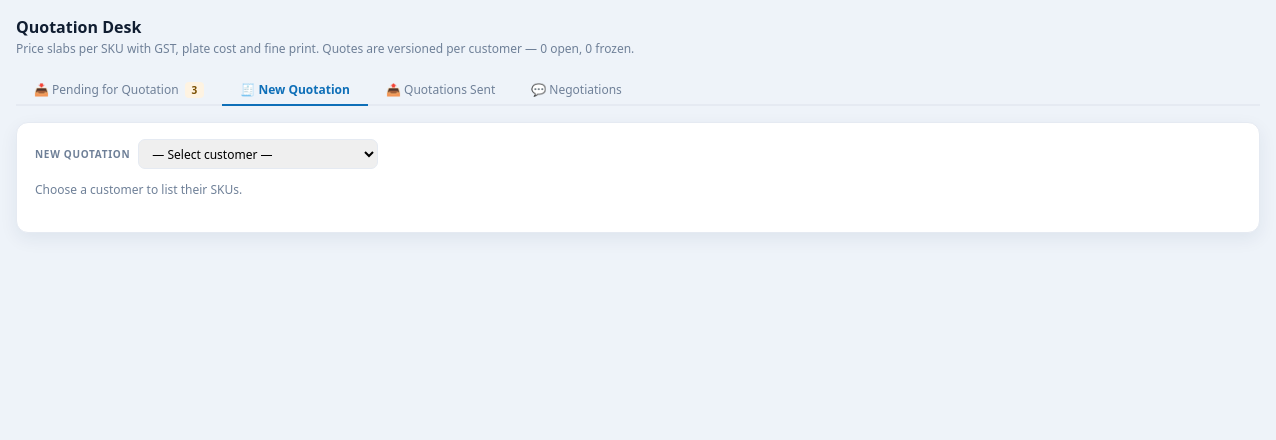
it: QT1 / QT2 — the desk › names the rep each quotation lands on, ages from the plant's push, and flags an unallocated customer
Expected: the text "Quotation Desk" is shown, [16,16,141,38]
Step 1. Click the element with class "step-tab" showing "📥 Pending for Quotation 3" → (119, 90), box [34,81,204,98]
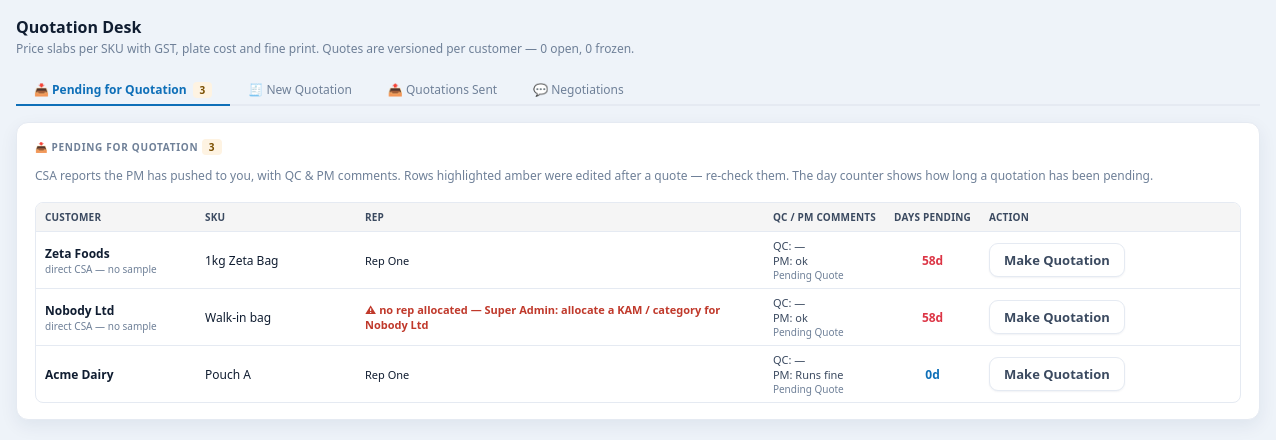
Expected: the cell named "Rep for Pouch A" is shown, [356,346,764,402]
Expected: the cell named "Rep for Pouch A" reads "Rep One", [365,366,409,382]
Expected: the cell named "Rep for 1kg Zeta Bag" reads "Rep One", [365,252,409,268]
